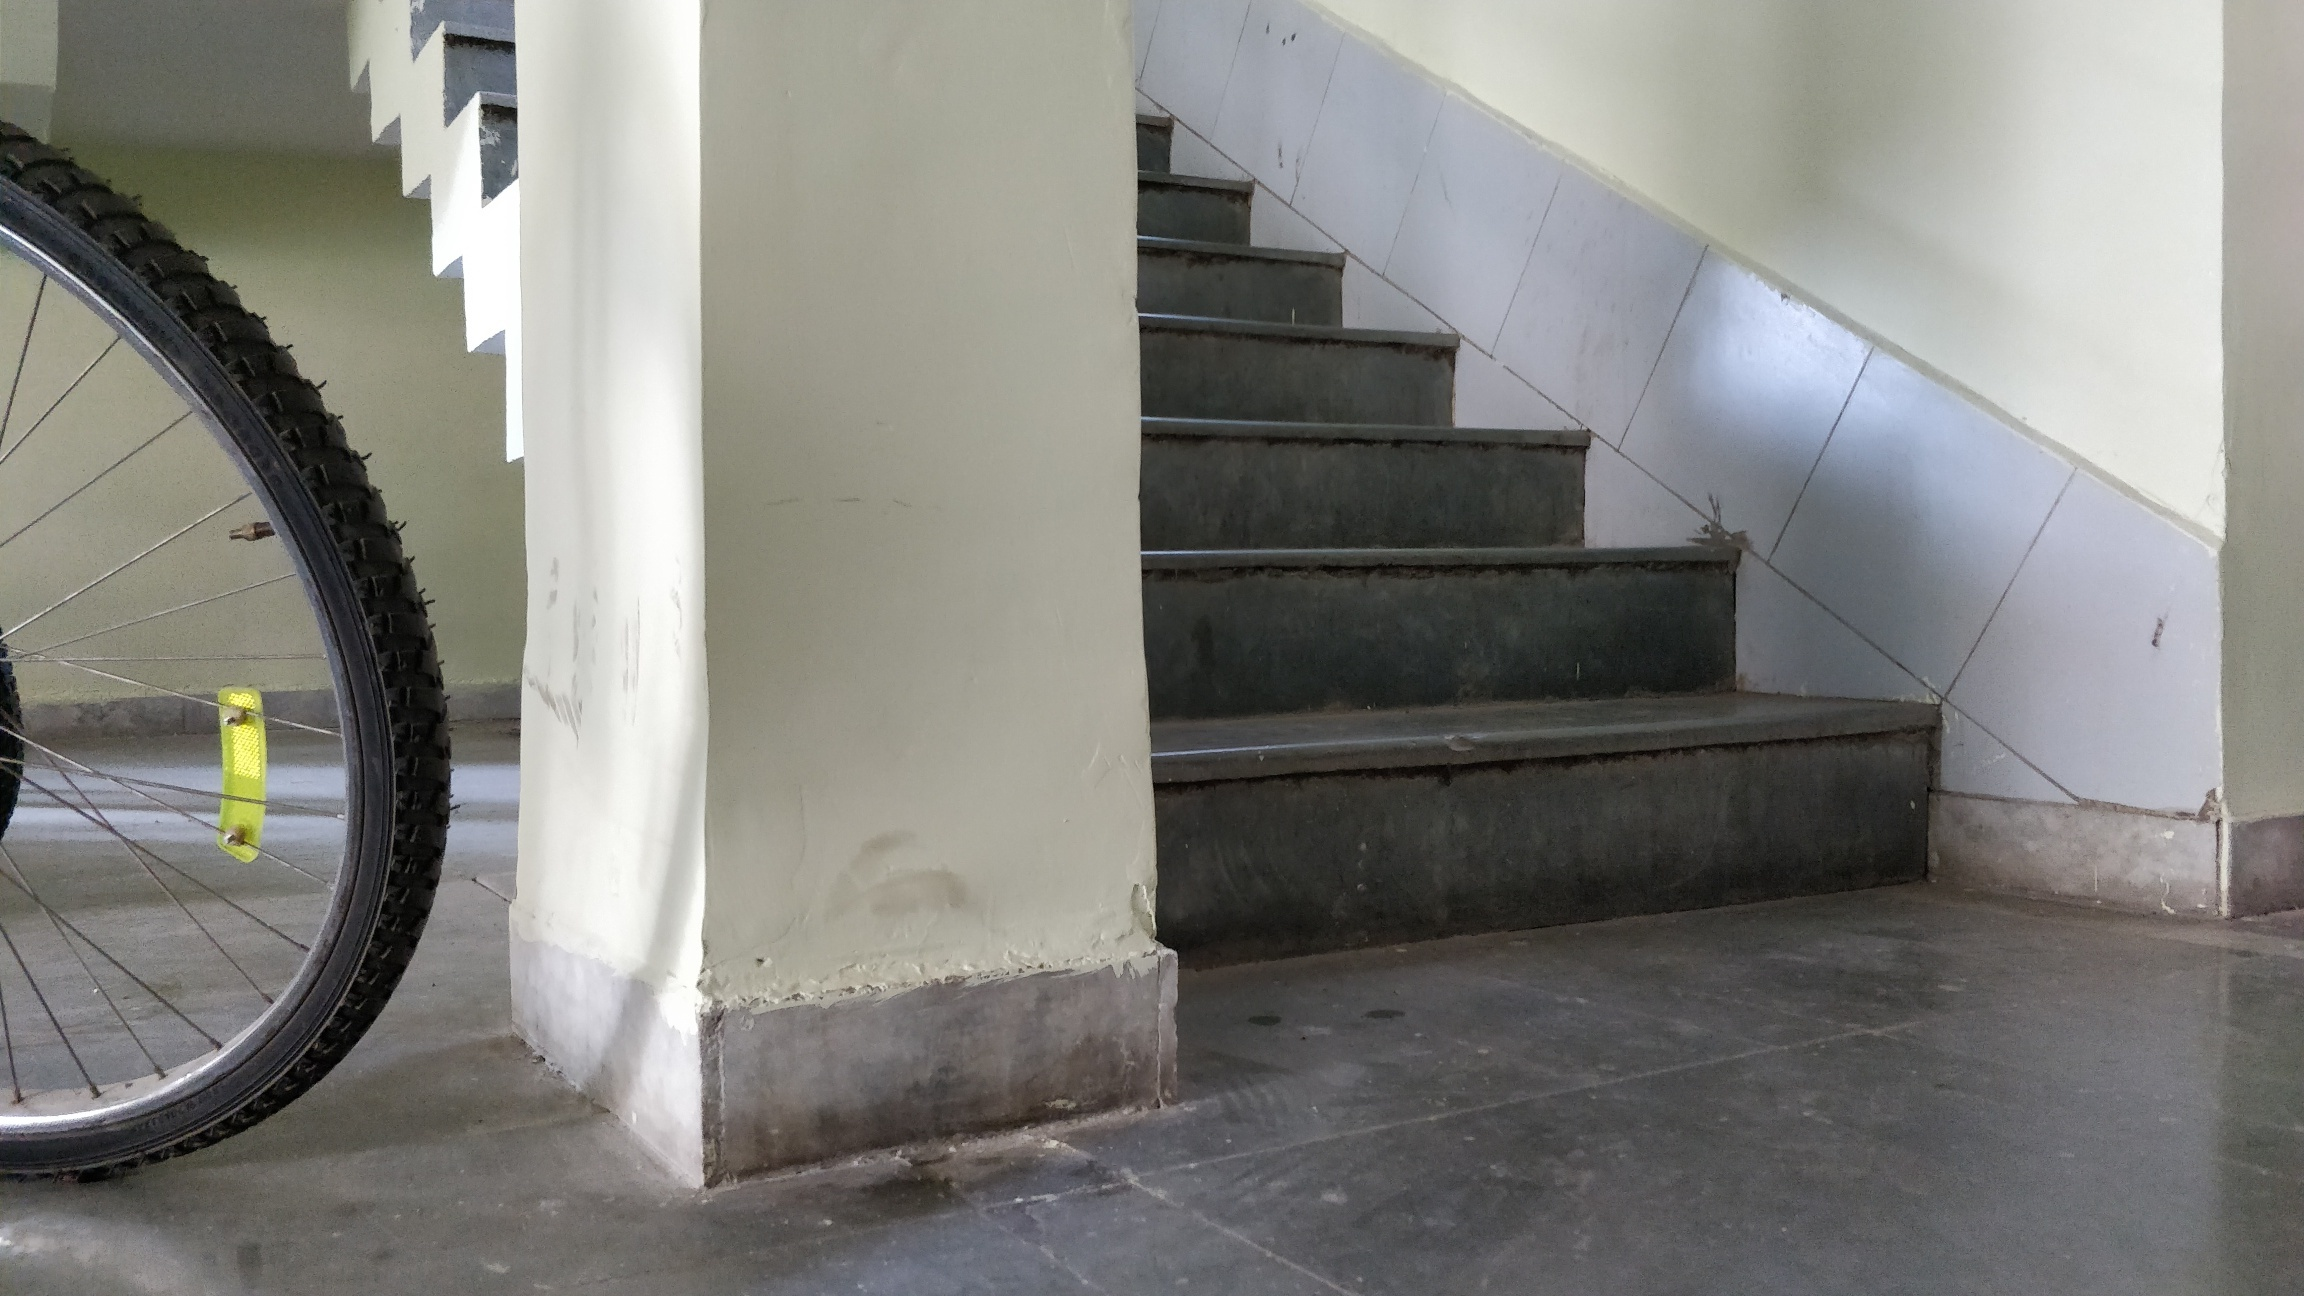stairs_up: (1130, 81, 1964, 995)
